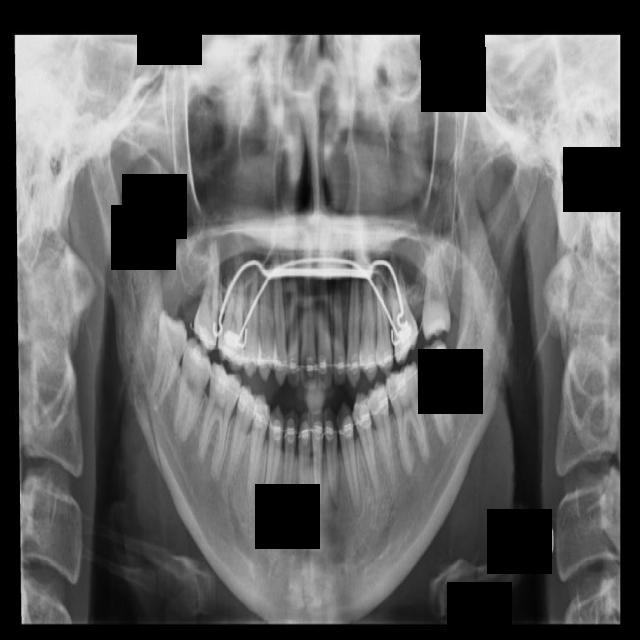73: (600, 582, 612, 598)
BioHorizons Implant: (413, 242, 453, 341)
Blue Sky Bio Implant: (416, 338, 455, 445)
Caries: (194, 244, 221, 353)
Implant: (171, 336, 216, 439)
Keystone Dental Implant: (149, 309, 191, 408)
